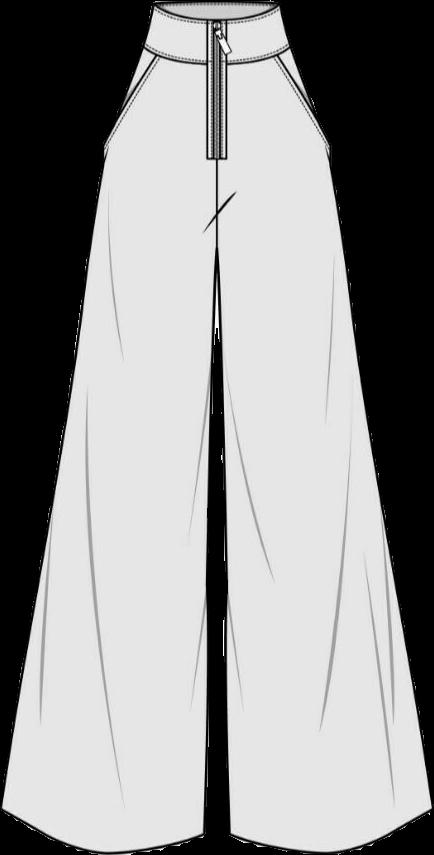Hemline: (0, 802, 205, 854), (229, 802, 433, 854)
Pantleg: (2, 2, 216, 851), (216, 2, 430, 850)
Waistline: (141, 42, 294, 66), (152, 0, 279, 25)
